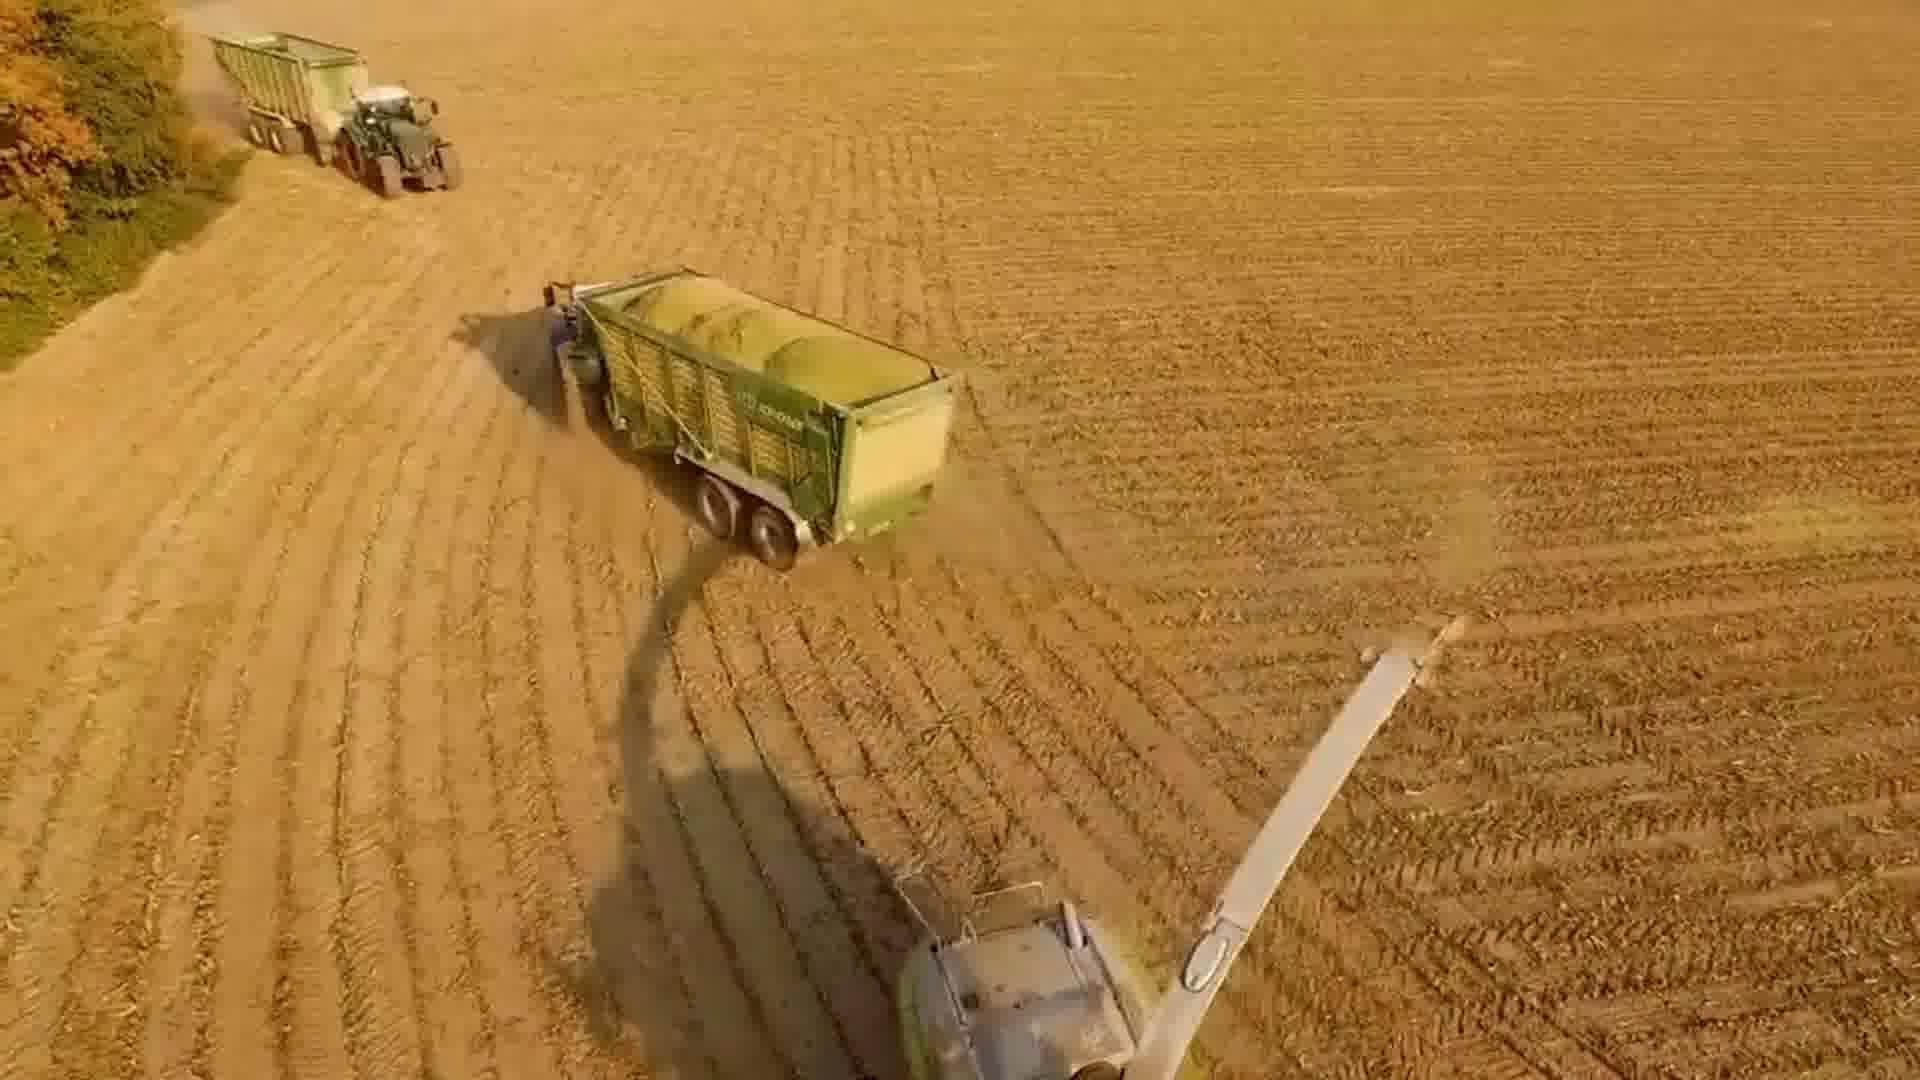combine harvester: (880, 597, 1474, 1080)
tractor: (336, 80, 464, 203), (537, 260, 609, 436)
trailer: (578, 261, 960, 572), (202, 20, 372, 173)
